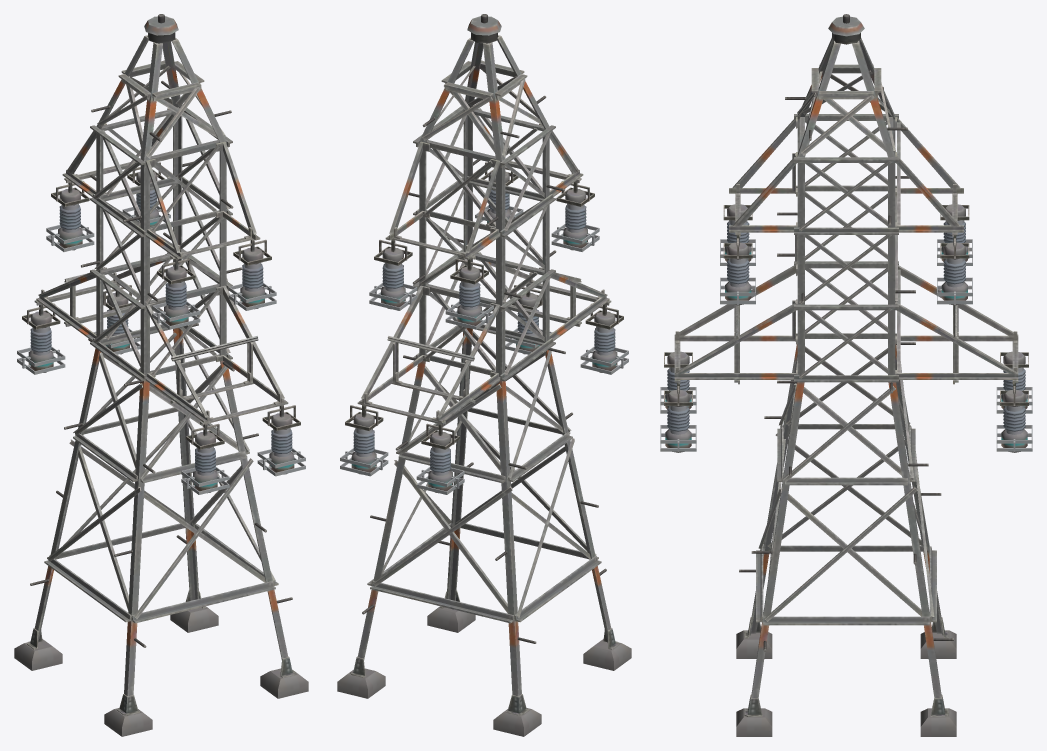
The model's file is SM_TransmissionTower_5675aa.glb.
The picture shows the model from 3 angles, left to right: view 1: azimuth 30°, elevation 25°; view 2: azimuth 150°, elevation 25°; view 3: azimuth 270°, elevation 25°; orthographic projection. The views are drawn at different scales.
Size of the model in its own units: 1.46 by 4.94 by 2.47.
Materials: 1 (1 with a texture image).
